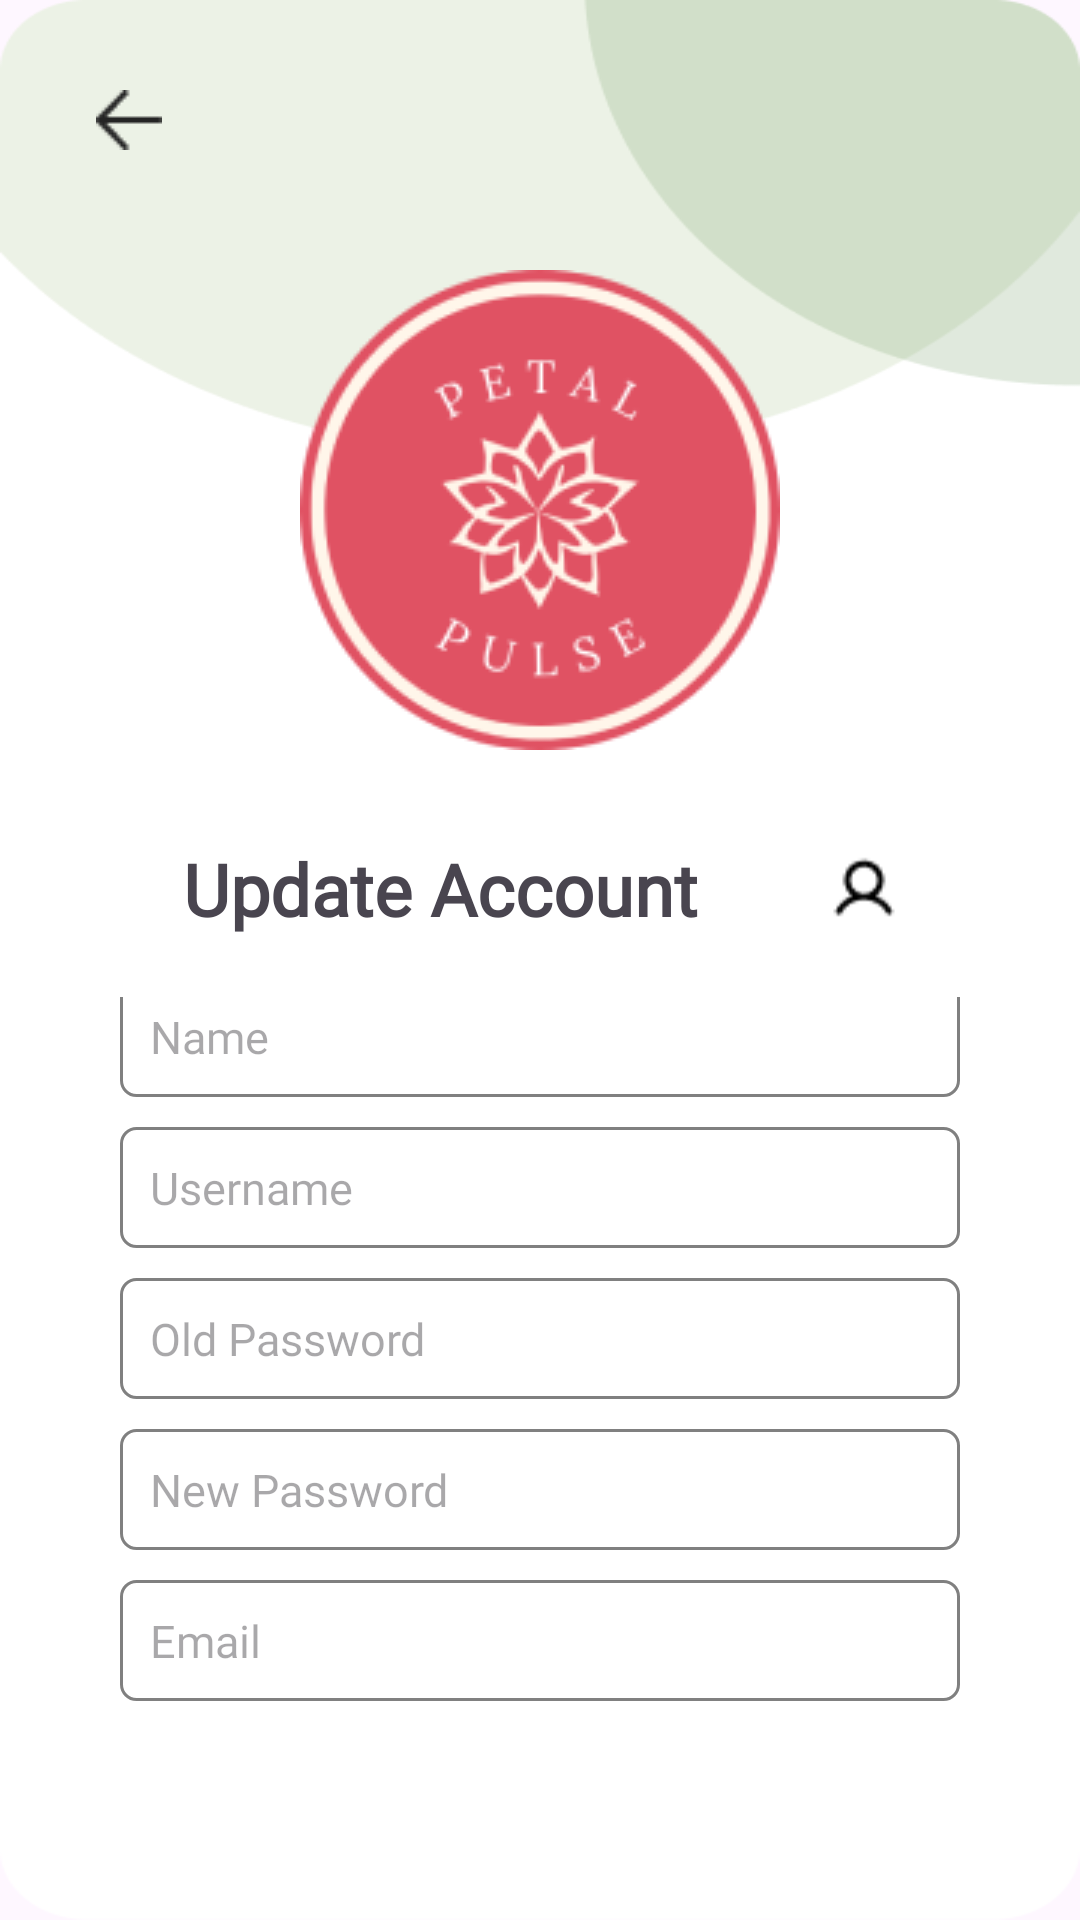

Locate icon controls on the screen. Image size 1080px x 1920px, boxes as (x1, y1, x2, y2).
back: (96, 90, 162, 150)
user: (834, 858, 894, 916)
